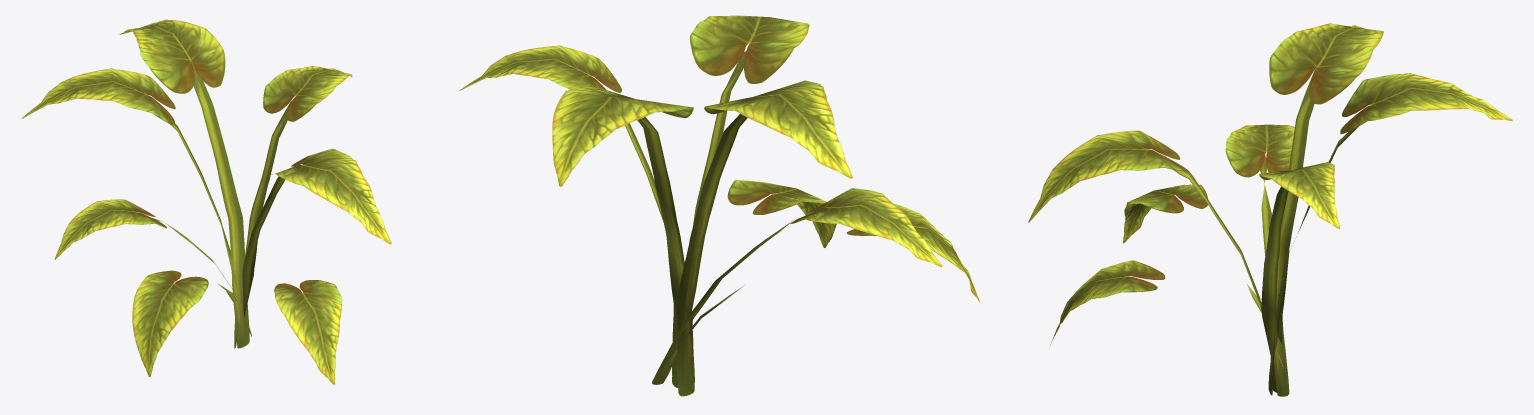
File: plant-1.fbx
3 renders of one model, left to right at view 1: azimuth 30°, elevation 25°; view 2: azimuth 150°, elevation 25°; view 3: azimuth 270°, elevation 25°, orthographic. The views are drawn at different scales.
Visible parts, largest first — view 1: Plant_1_LOD00; view 2: Plant_1_LOD00; view 3: Plant_1_LOD00.
Part boxes in pixels (box(x1,y1,x2,y2)): Plant_1_LOD00: box(22, 19, 391, 384); Plant_1_LOD00: box(459, 15, 979, 396); Plant_1_LOD00: box(1028, 23, 1512, 396).
Size of what is drawn, in the model's own units: 33.68 by 25.07 by 37.71.
